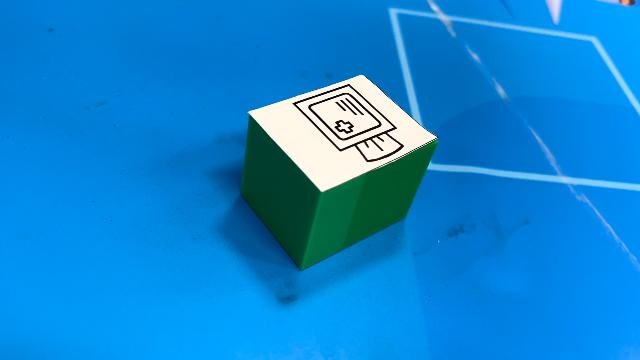napkin: (238, 72, 440, 272)
